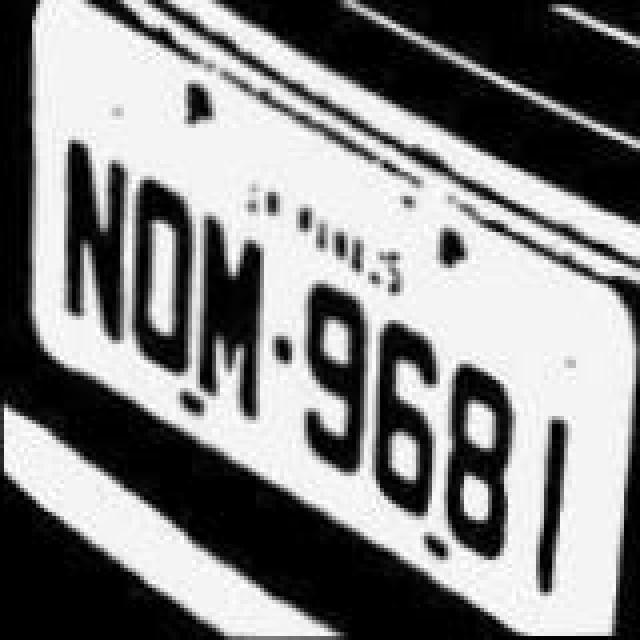1: (514, 392, 582, 608)
6: (360, 298, 452, 522)
8: (430, 346, 526, 566)
9: (290, 272, 374, 476)
M: (178, 204, 274, 424)
N: (54, 126, 130, 346)
O: (122, 160, 206, 372)
